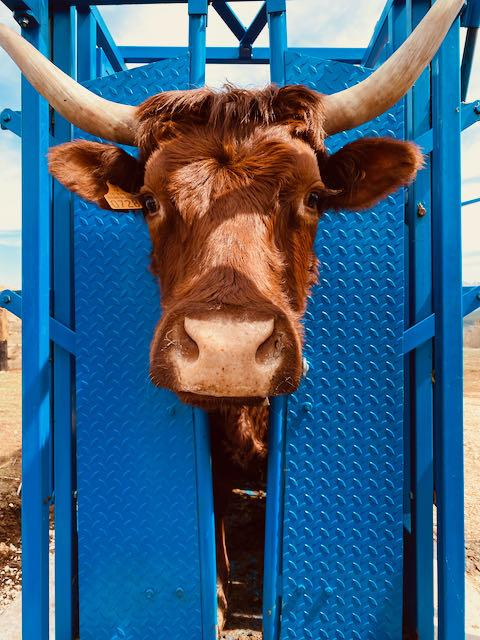muzzles: (158, 303, 298, 403)
